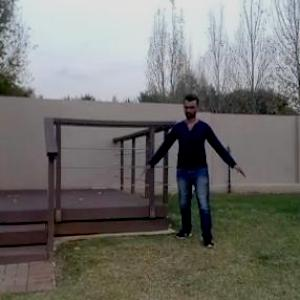land: (140, 84, 244, 264)
